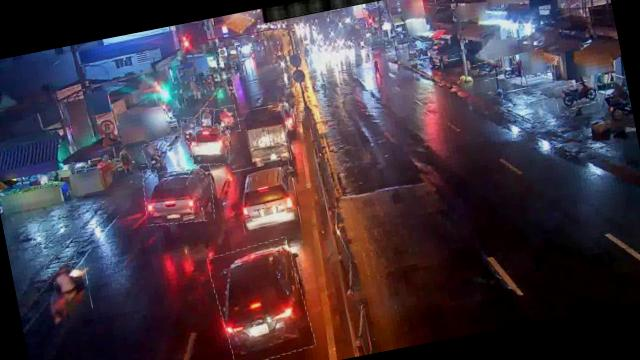Bike: (46, 261, 92, 316), (554, 80, 600, 112), (142, 137, 175, 176), (468, 58, 504, 82), (215, 104, 241, 135), (178, 117, 198, 144), (198, 107, 216, 130)
Car: (207, 237, 314, 360), (140, 160, 220, 230), (232, 160, 302, 233), (187, 122, 234, 169)
Truck: (236, 103, 292, 168)
